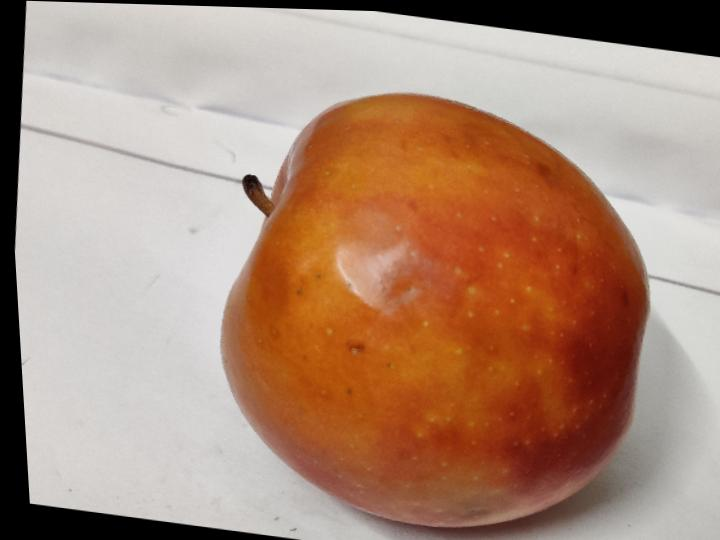apple: (222, 96, 648, 526)
